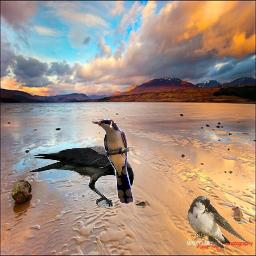Crow: (27, 145, 134, 207)
Cuckoo: (92, 119, 135, 205)
Swallow: (186, 195, 251, 249)
